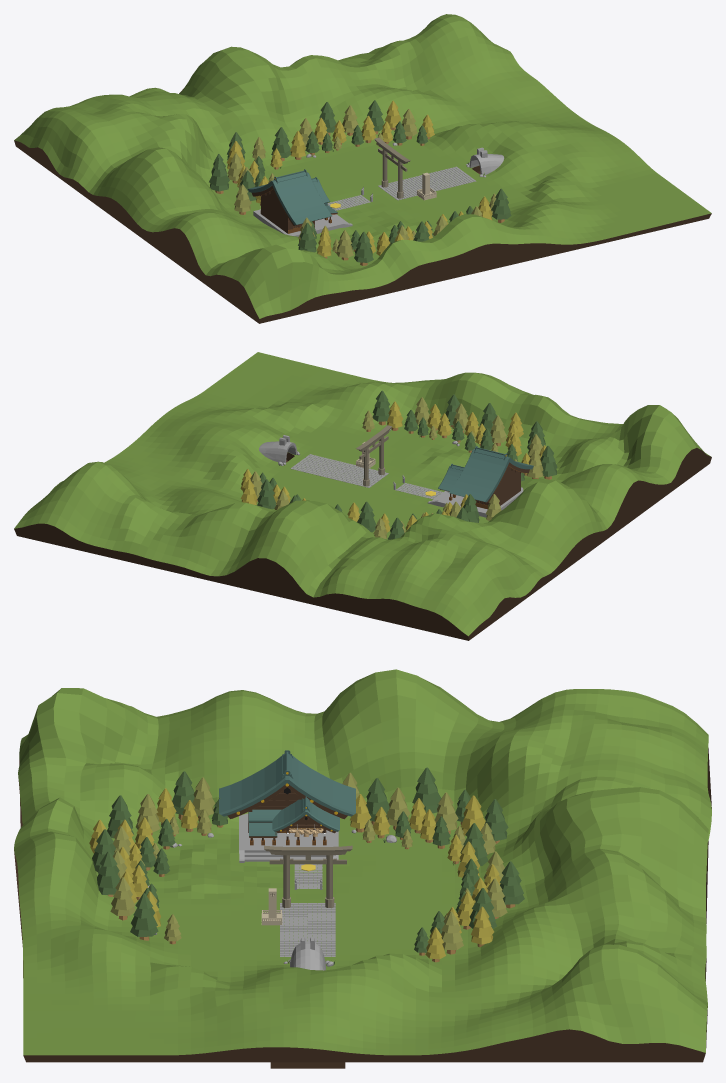
Rendered from 01level.fbx.
3 views of the same model, one above another, from view 1: azimuth 30°, elevation 25°; view 2: azimuth 150°, elevation 25°; view 3: azimuth 270°, elevation 25° (orthographic). The views are drawn at different scales.
Parts seen in each view (by area): view 1: Ground, 01_Izumo_Taisha, Shrine, Stair, RabbitHole, TeamTree_146.006; view 2: Ground, 01_Izumo_Taisha, Shrine, RabbitHole, Stair; view 3: Ground, 01_Izumo_Taisha, Stair, Shrine, RabbitHole, TeamTree_146.018, TeamTree_146.006, TeamTree_146.022, TeamTree_146.004, Road.002, TeamTree_130.011, Road (+5 smaller).
Part boxes in pixels (box(x1,y1,x2,y2)): Ground: box(14, 14, 711, 323); 01_Izumo_Taisha: box(248, 169, 337, 233); Shrine: box(374, 137, 410, 198); Stair: box(253, 209, 352, 236); RabbitHole: box(469, 147, 504, 175); TeamTree_146.006: box(209, 157, 229, 193); Ground: box(14, 352, 711, 640); 01_Izumo_Taisha: box(438, 446, 533, 509); Shrine: box(356, 425, 392, 486); RabbitHole: box(259, 435, 297, 463); Stair: box(427, 487, 523, 517); Ground: box(14, 669, 711, 1062); 01_Izumo_Taisha: box(219, 750, 355, 845); Stair: box(239, 813, 338, 862); Shrine: box(264, 845, 352, 907); RabbitHole: box(290, 937, 325, 970); TeamTree_146.018: box(130, 893, 158, 940); TeamTree_146.006: box(412, 767, 441, 813); TeamTree_146.022: box(499, 861, 524, 908); TeamTree_146.004: box(97, 851, 120, 896); Road.002: box(308, 903, 335, 929); TeamTree_130.011: box(110, 877, 135, 920); Road: box(280, 903, 307, 929).
Size of the model in its own units: 16788 by 3693 by 15695.
